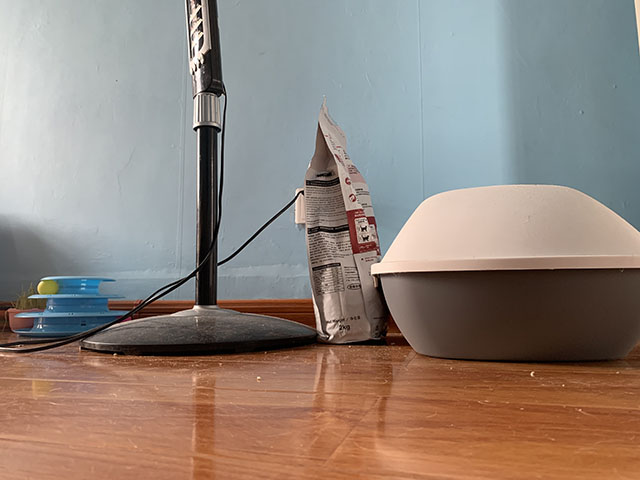wire: (1, 82, 304, 356)
